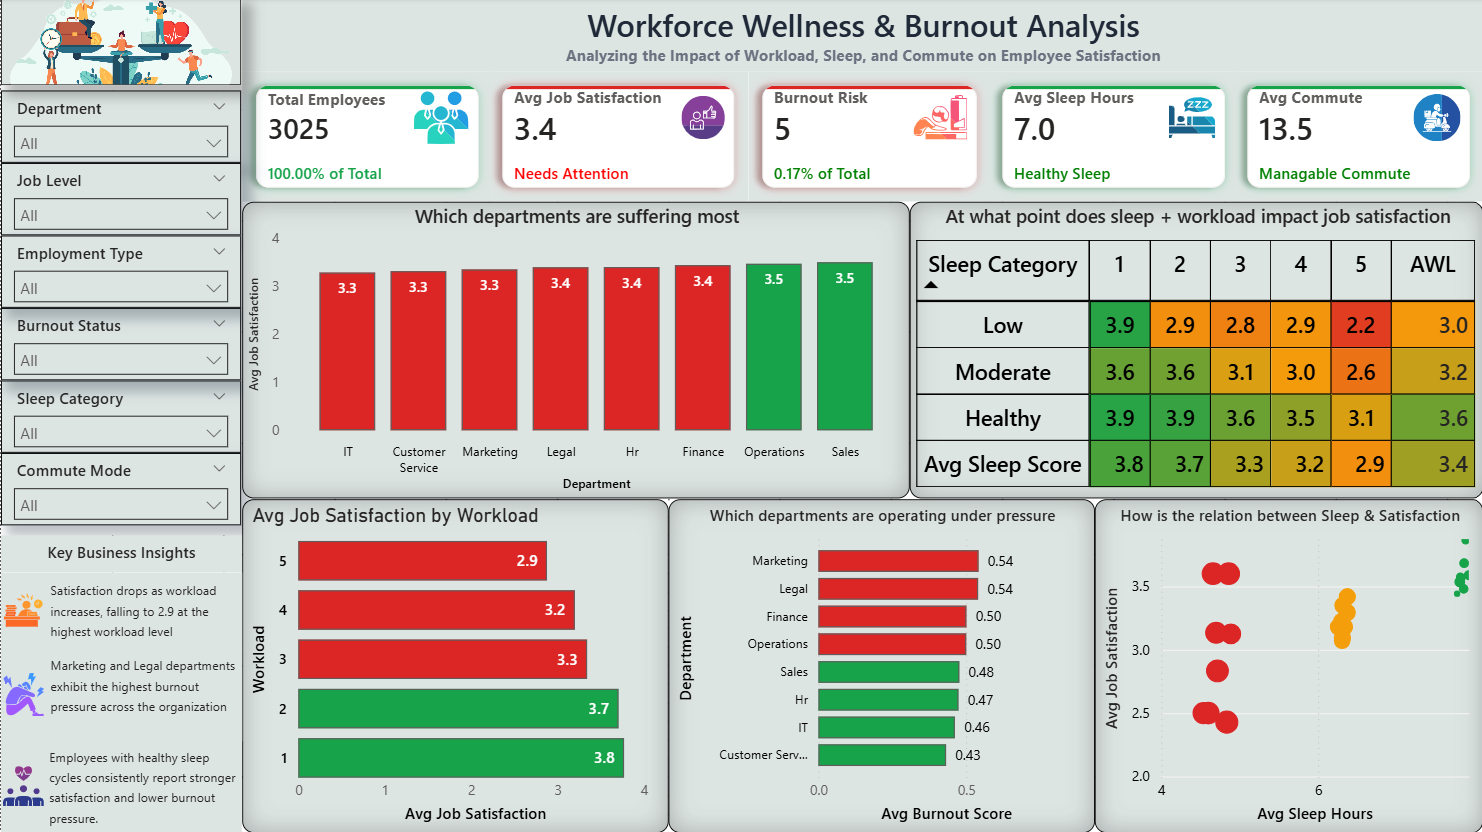

Layout of this report page (visuals, bound fields, positions):
{"tool":"powerbi","page":{"name":"Page 1","canvas":[1280,720],"ordinal":0},"visuals":[{"type":"textbox","box":[208,0,1072,64],"z":0},{"type":"cardVisual","fields":{"Data":["cleaned_employee_survey.Total Employees"]},"box":[208,64,216.7,112],"z":0,"group":"g1"},{"type":"slicer","fields":{"Values":["cleaned_employee_survey.Department"]},"box":[0,80,207,62],"z":0,"group":"g2"},{"type":"textbox","box":[38,496,170,65],"z":0,"group":"g3"},{"type":"group","id":"g1","title":"Group 2","box":[208,64,1072,112],"z":1000},{"type":"cardVisual","fields":{"Data":["cleaned_employee_survey.Employees at Burnout Risk"]},"box":[645,64,209,112],"z":1000,"group":"g1"},{"type":"slicer","fields":{"Values":["cleaned_employee_survey.Job Level"]},"box":[0,143,207,62],"z":1000,"group":"g2"},{"type":"textbox","box":[0,464,208,32],"z":1000,"group":"g3"},{"type":"cardVisual","fields":{"Data":["cleaned_employee_survey.Avg Job Satisfaction"]},"box":[420,64,224,112],"z":2000,"group":"g1"},{"type":"group","id":"g2","title":"Group 1","box":[0,80,207,375],"z":2000},{"type":"slicer","fields":{"Values":["cleaned_employee_survey.Sleep Category"]},"box":[0,330,207,62],"z":2000,"group":"g2"},{"type":"image","box":[0,496,38,64],"z":2000,"group":"g3"},{"type":"image","box":[0,0,207,75],"z":3000},{"type":"cardVisual","fields":{"Data":["cleaned_employee_survey.Avg Sleep Hours"]},"box":[851.8,64,216.7,112],"z":3000,"group":"g1"},{"type":"slicer","fields":{"Values":["cleaned_employee_survey.Burnout Status"]},"box":[0,268,207,62],"z":3000,"group":"g2"},{"type":"textbox","box":[38,561,170,80],"z":3000,"group":"g3"},{"type":"cardVisual","fields":{"Data":["cleaned_employee_survey.Avg Commute Distance"]},"box":[1063.3,64,216.7,112],"z":4000,"group":"g1"},{"type":"clusteredColumnChart","title":"Which departments are suffering most","fields":{"Category":["cleaned_employee_survey.Department"],"Y":["cleaned_employee_survey.Avg Job Satisfaction"]},"box":[208,176,576,256],"z":4000,"group":"g4"},{"type":"slicer","fields":{"Values":["cleaned_employee_survey.Employee Type"]},"box":[0,205,207,62],"z":4000,"group":"g2"},{"type":"scatterChart","title":"How is the relation between Sleep & Satisfaction","fields":{"X":["Avg(cleaned_employee_survey.Sleep Hours)"],"Y":["Avg(cleaned_employee_survey.Job Satisfaction)"],"Size":["Avg(cleaned_employee_survey.Burnout Score)"],"Series":["cleaned_employee_survey.Sleep Category"],"Category":["cleaned_employee_survey.Department"]},"box":[944,432,336,288],"z":4000},{"type":"image","box":[0,560,39,82],"z":4000,"group":"g3"},{"type":"pivotTable","title":"At what point does sleep + workload impact job satisfaction","fields":{"Rows":["cleaned_employee_survey.Sleep Category"],"Columns":["cleaned_employee_survey.Workload"],"Values":["cleaned_employee_survey.Avg Job Satisfaction"]},"box":[784,176,496,256],"z":5000,"group":"g4"},{"type":"slicer","fields":{"Values":["cleaned_employee_survey.Commute Mode"]},"box":[0,393,207,62],"z":5000,"group":"g2"},{"type":"clusteredBarChart","title":"Which departments are operating under pressure","fields":{"Category":["cleaned_employee_survey.Department"],"Y":["cleaned_employee_survey.Avg Burnout Score"]},"box":[576,432,368,288],"z":5000},{"type":"textbox","box":[37,640,171,80],"z":5000,"group":"g3"},{"type":"clusteredBarChart","fields":{"Y":["cleaned_employee_survey.Avg Job Satisfaction"],"Category":["cleaned_employee_survey.Workload"]},"box":[208,432,368,288],"z":6000},{"type":"image","box":[0,640,39,80],"z":6000,"group":"g3"},{"type":"image","box":[10,467,28,27],"z":7000},{"type":"group","id":"g3","title":"Group 3","box":[0,464,208,256],"z":8000},{"type":"group","id":"g4","title":"Group 4","box":[208,176,1072,256],"z":9000}]}

Visuals, with their boxes in screenshot pixels (x1, y1, x2, y2), scaled from the page's 1280x720 canvas onto the 1482x832 screenshot:
textbox: locate(241, 0, 1481, 74)
cardVisual - cleaned_employee_survey.Total Employees: locate(241, 74, 492, 203)
slicer - cleaned_employee_survey.Department: locate(0, 92, 240, 164)
textbox: locate(44, 573, 241, 648)
"Group 2" group: locate(241, 74, 1481, 203)
cardVisual - cleaned_employee_survey.Employees at Burnout Risk: locate(747, 74, 989, 203)
slicer - cleaned_employee_survey.Job Level: locate(0, 165, 240, 237)
textbox: locate(0, 536, 241, 573)
cardVisual - cleaned_employee_survey.Avg Job Satisfaction: locate(486, 74, 746, 203)
"Group 1" group: locate(0, 92, 240, 526)
slicer - cleaned_employee_survey.Sleep Category: locate(0, 381, 240, 453)
image: locate(0, 573, 44, 647)
image: locate(0, 0, 240, 87)
cardVisual - cleaned_employee_survey.Avg Sleep Hours: locate(986, 74, 1237, 203)
slicer - cleaned_employee_survey.Burnout Status: locate(0, 310, 240, 381)
textbox: locate(44, 648, 241, 741)
cardVisual - cleaned_employee_survey.Avg Commute Distance: locate(1231, 74, 1481, 203)
"Which departments are suffering most" clusteredColumnChart: locate(241, 203, 908, 499)
slicer - cleaned_employee_survey.Employee Type: locate(0, 237, 240, 309)
"How is the relation between Sleep & Satisfaction" scatterChart: locate(1093, 499, 1481, 831)
image: locate(0, 647, 45, 742)
"At what point does sleep + workload impact job satisfaction" pivotTable: locate(908, 203, 1481, 499)
slicer - cleaned_employee_survey.Commute Mode: locate(0, 454, 240, 526)
"Which departments are operating under pressure" clusteredBarChart: locate(667, 499, 1093, 831)
textbox: locate(43, 740, 241, 831)
clusteredBarChart - cleaned_employee_survey.Avg Job Satisfaction x cleaned_employee_survey.Workload: locate(241, 499, 667, 831)
image: locate(0, 740, 45, 831)
image: locate(12, 540, 44, 571)
"Group 3" group: locate(0, 536, 241, 831)
"Group 4" group: locate(241, 203, 1481, 499)
